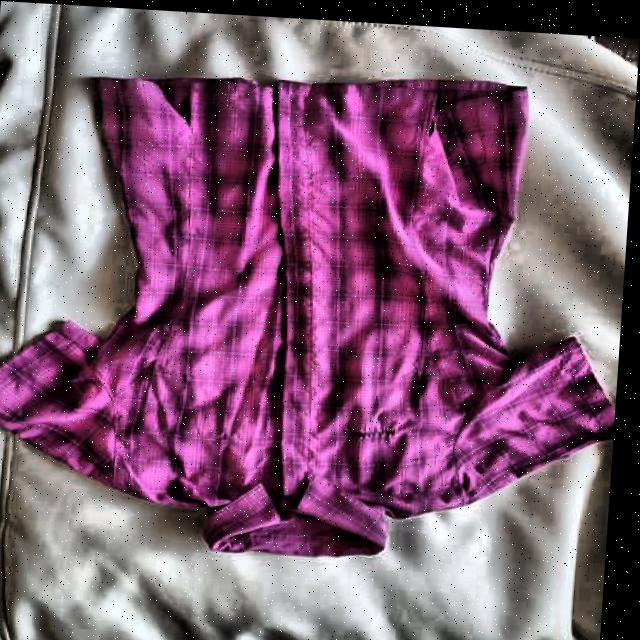clothes: (0, 46, 637, 574)
